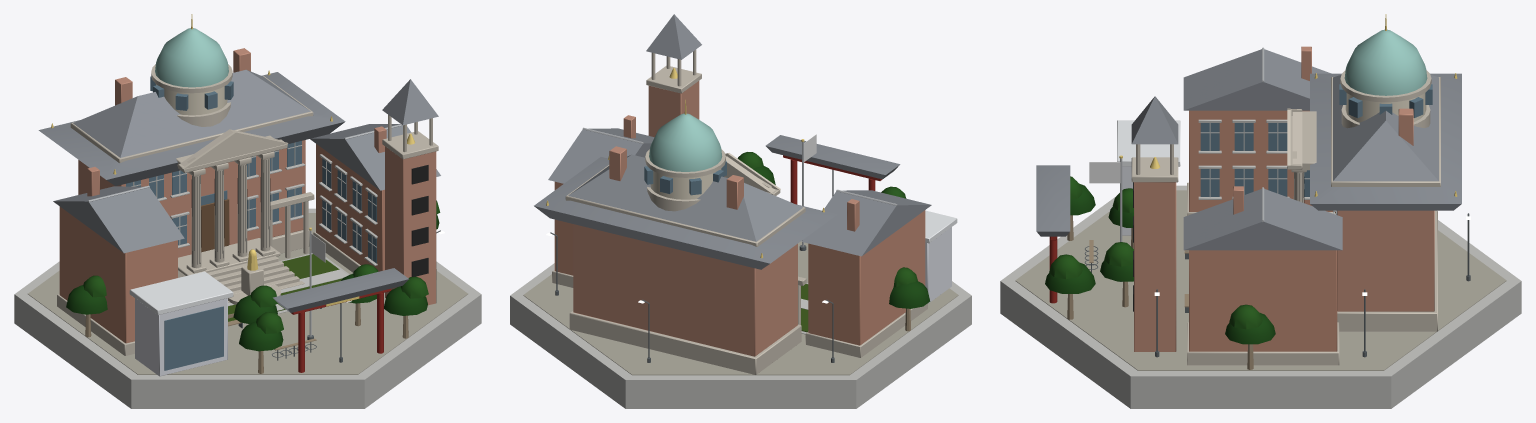
Rendered from university_asia.glb.
3 renders of one model, left to right at view 1: azimuth 30°, elevation 25°; view 2: azimuth 150°, elevation 25°; view 3: azimuth 270°, elevation 25°, orthographic. The views are drawn at different scales.
Parts seen in each view (by area): view 1: roof_slate, brick, wall_concrete, stone, pavers, glass, leaf, cladding, copper, dark, wood, turf (+4 smaller); view 2: brick, roof_slate, wall_concrete, stone, pavers, copper, cladding, leaf, plaster, glass, paint, steel_dark (+1 smaller); view 3: brick, roof_slate, wall_concrete, pavers, stone, leaf, glass, copper, cladding, wood, plaster, banner (+1 smaller).
Part boxes in pixels (x1,y1,x2,y2): roof_slate: (38,69,440,312); brick: (59,48,436,343); wall_concrete: (14,142,481,408); stone: (57,64,438,355); pavers: (28,213,467,374); glass: (126,76,376,370); leaf: (66,200,440,351); cladding: (129,271,233,376); copper: (155,28,228,87); dark: (191,159,428,276); wood: (85,199,408,373); turf: (228,254,342,321); brick: (554,81,925,356); roof_slate: (534,14,931,269); wall_concrete: (510,263,971,408); stone: (552,49,927,375); pavers: (523,241,958,375); copper: (649,113,722,171); cladding: (925,210,957,303); leaf: (737,152,930,308); plaster: (650,169,721,199); glass: (644,161,726,195); paint: (783,155,882,204); steel_dark: (550,169,834,362); brick: (1134,46,1434,351); roof_slate: (1036,49,1461,250); wall_concrete: (1000,119,1521,408); pavers: (1015,190,1506,370); stone: (1131,70,1440,365); leaf: (1045,176,1275,344); glass: (1200,84,1432,214); copper: (1344,29,1427,95); cladding: (1117,120,1180,235); wood: (1067,212,1335,369); plaster: (1345,93,1426,122); banner: (1089,162,1120,183).
Size of the model in its own units: 22.34 by 15.6 by 24.6.
